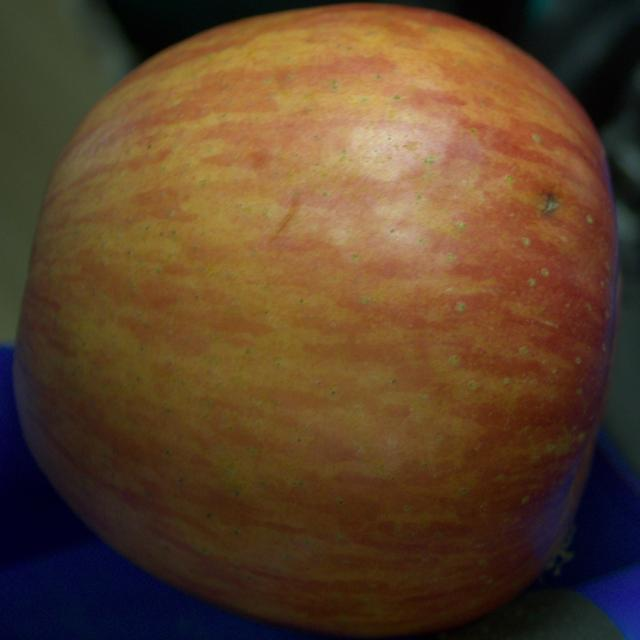apple: (14, 5, 619, 636)
pest: (542, 194, 558, 213)
scratch: (274, 201, 299, 236)
